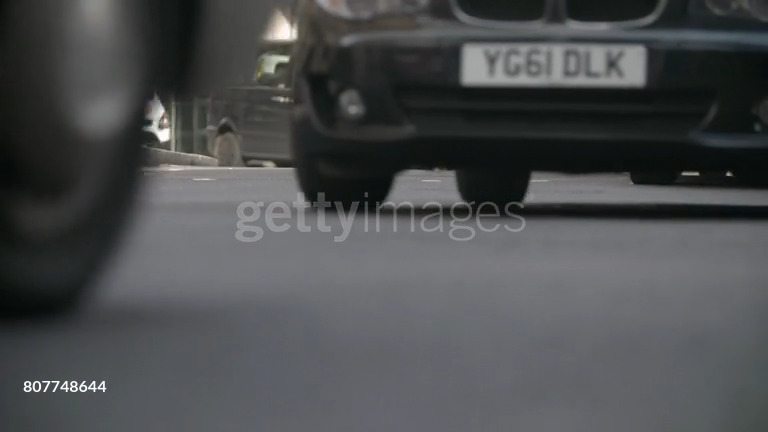car number: (459, 42, 646, 86)
